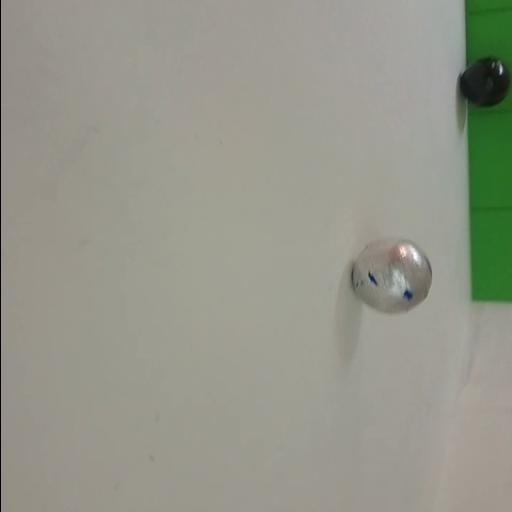alive: (351, 238, 431, 314)
dead: (458, 57, 510, 107)
